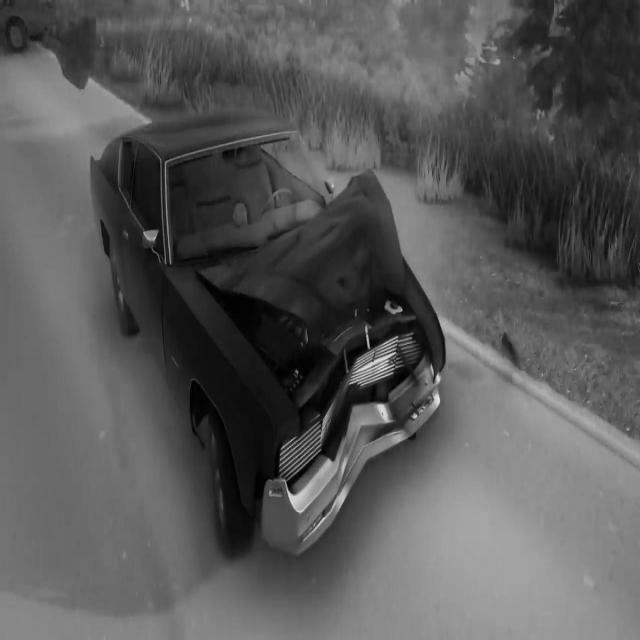moderate: (87, 100, 450, 564)
